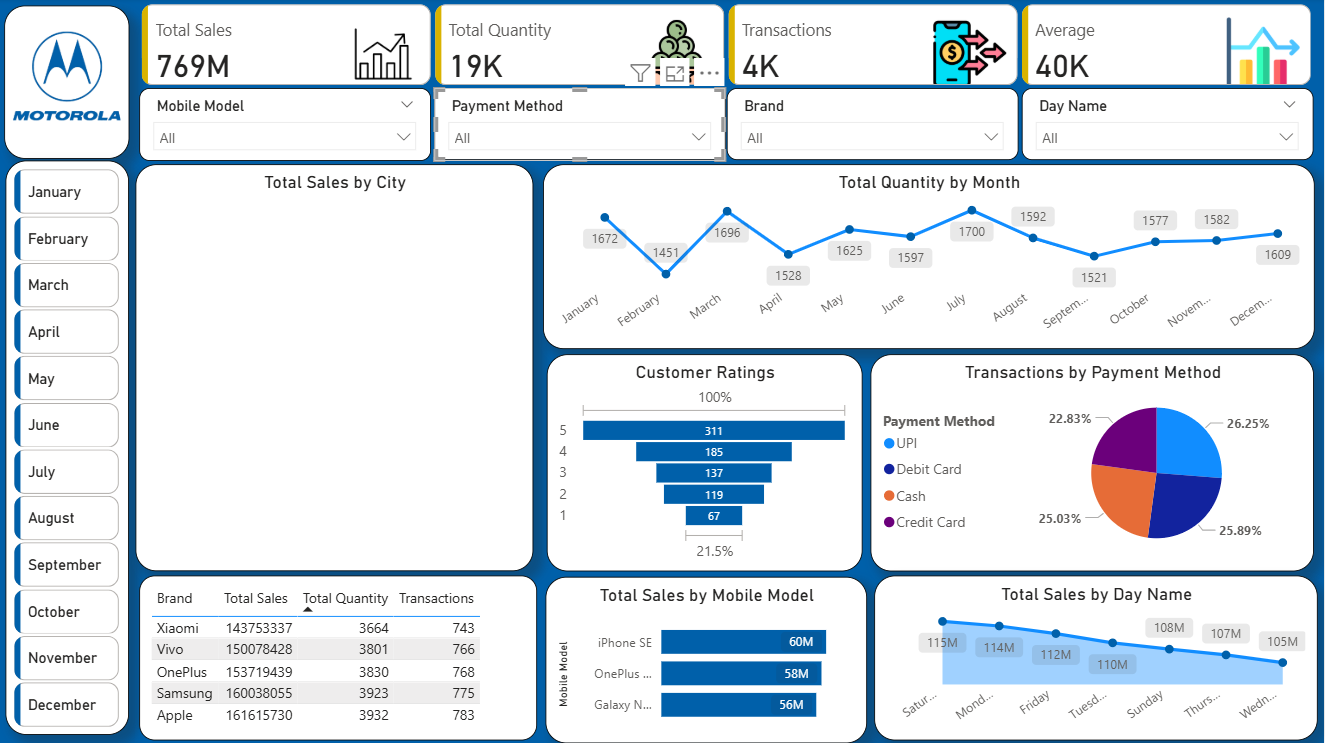

The dashboard page shown, as its layout file describes it:
{"tool":"powerbi","page":{"name":"Page 1","canvas":[1320,800],"ordinal":0},"visuals":[{"type":"shape","box":[4.2,15.4,172.6,151.5],"z":0},{"type":"image","box":[28.1,22.4,126.3,129.1],"z":1000},{"type":"shape","box":[4.2,176.8,174,607.5],"z":2000},{"type":"advancedSlicerVisual","fields":{"Values":["Mobile_Sales_Data.Date.Variation.Date Hierarchy.Month"]},"box":[14,190.8,152.9,580.9],"z":3000},{"type":"cardVisual","fields":{"Data":["Mobile_Sales_Data.Total Sales","Sum(Mobile_Sales_Data.Units Sold)","Avg(Mobile_Sales_Data.Price Per Unit)","Mobile_Sales_Data.Trancations"]},"box":[178.2,0,1132.3,101],"z":4000},{"type":"map","fields":{"Category":["Mobile_Sales_Data.City"],"Size":["Mobile_Sales_Data.Total Sales"]},"box":[185.2,176.8,390.1,432.1],"z":5000},{"type":"lineChart","title":"Total Quantity by Month","fields":{"Y":["Sum(Mobile_Sales_Data.Units Sold)"],"Category":["Mobile_Sales_Data.Date.Variation.Date Hierarchy.Month"]},"box":[582.3,176.8,728.2,154.3],"z":6000},{"type":"clusteredBarChart","fields":{"Category":["Mobile_Sales_Data.Mobile Model"],"Y":["Mobile_Sales_Data.Total Sales"]},"box":[582.3,618.8,286.2,165.6],"z":7000},{"type":"stackedAreaChart","fields":{"Category":["Mobile_Sales_Data.Day Name"],"Y":["Mobile_Sales_Data.Total Sales"]},"box":[876.9,618.8,433.5,165.6],"z":8000},{"type":"tableEx","fields":{"Values":["Mobile_Sales_Data.Brand","Mobile_Sales_Data.Total Sales","Sum(Mobile_Sales_Data.Units Sold)","Mobile_Sales_Data.Transcations"]},"box":[185.2,618.8,390.1,165.6],"z":9000},{"type":"slicer","fields":{"Values":["Mobile_Sales_Data.Mobile Model"]},"box":[185.2,96.8,277.8,70.2],"z":10000},{"type":"slicer","fields":{"Values":["Mobile_Sales_Data.Payment Method"]},"box":[463,98.2,282,68.8],"z":11000},{"type":"slicer","fields":{"Values":["Mobile_Sales_Data.Brand"]},"box":[745,96.8,277.8,70.2],"z":12000},{"type":"slicer","fields":{"Values":["Mobile_Sales_Data.Day Name"]},"box":[1022.8,98.2,287.6,68.8],"z":13000},{"type":"pieChart","fields":{"Y":["Mobile_Sales_Data.Transcations"],"Category":["Mobile_Sales_Data.Payment Method"]},"box":[876.9,342.3,433.5,266.6],"z":14000},{"type":"funnel","title":"Customer Rating","fields":{"Category":["Mobile_Sales_Data.Customer Ratings"],"Y":["CountNonNull(Mobile_Sales_Data.Customer Ratings)"]},"box":[582.3,342.3,286.2,266.6],"z":15000},{"type":"image","box":[933,15.4,78.6,85.6],"z":16000},{"type":"image","box":[1215.1,22.4,71.6,71.6],"z":17000},{"type":"image","box":[652.4,15.4,73,80],"z":18000},{"type":"image","box":[366.2,2.8,85.6,91.2],"z":19000}]}

Visuals, with their boxes on the page's 1320x800 design canvas (x1, y1, x2, y2). These are canvas units, not pixel positions in the 1325x743 screenshot, which may show the page scaled, cropped or inside an application window:
shape: box=[4, 15, 177, 167]
image: box=[28, 22, 154, 152]
shape: box=[4, 177, 178, 784]
advancedSlicerVisual - Mobile_Sales_Data.Date.Variation.Date Hierarchy.Month: box=[14, 191, 167, 772]
cardVisual - Mobile_Sales_Data.Total Sales x Sum(Mobile_Sales_Data.Units Sold): box=[178, 0, 1310, 101]
map - Mobile_Sales_Data.City x Mobile_Sales_Data.Total Sales: box=[185, 177, 575, 609]
"Total Quantity by Month" lineChart: box=[582, 177, 1310, 331]
clusteredBarChart - Mobile_Sales_Data.Mobile Model x Mobile_Sales_Data.Total Sales: box=[582, 619, 868, 784]
stackedAreaChart - Mobile_Sales_Data.Day Name x Mobile_Sales_Data.Total Sales: box=[877, 619, 1310, 784]
tableEx - Mobile_Sales_Data.Brand x Mobile_Sales_Data.Total Sales: box=[185, 619, 575, 784]
slicer - Mobile_Sales_Data.Mobile Model: box=[185, 97, 463, 167]
slicer - Mobile_Sales_Data.Payment Method: box=[463, 98, 745, 167]
slicer - Mobile_Sales_Data.Brand: box=[745, 97, 1023, 167]
slicer - Mobile_Sales_Data.Day Name: box=[1023, 98, 1310, 167]
pieChart - Mobile_Sales_Data.Transcations x Mobile_Sales_Data.Payment Method: box=[877, 342, 1310, 609]
"Customer Rating" funnel: box=[582, 342, 868, 609]
image: box=[933, 15, 1012, 101]
image: box=[1215, 22, 1287, 94]
image: box=[652, 15, 725, 95]
image: box=[366, 3, 452, 94]
